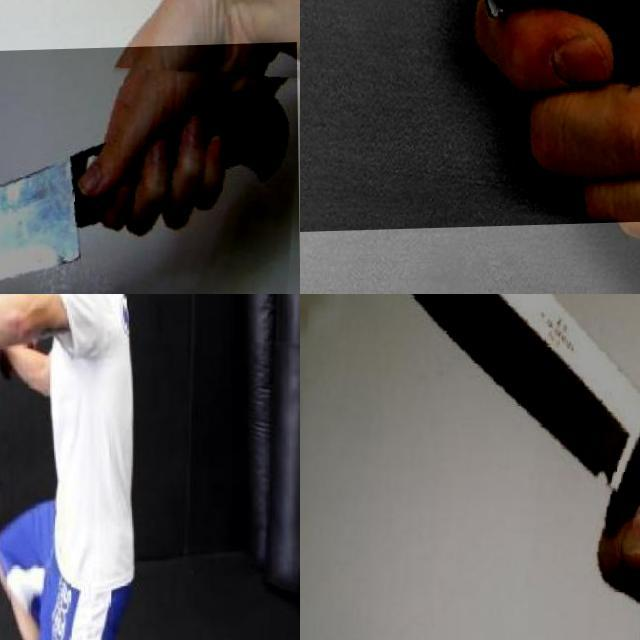-: (300, 294, 640, 640), (300, 0, 640, 276), (0, 46, 299, 294), (0, 294, 37, 383)
